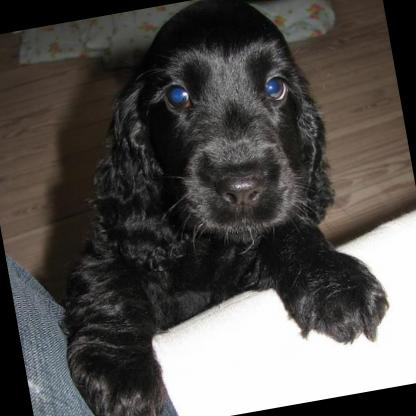cocker_spaniel: (5, 0, 403, 416)
